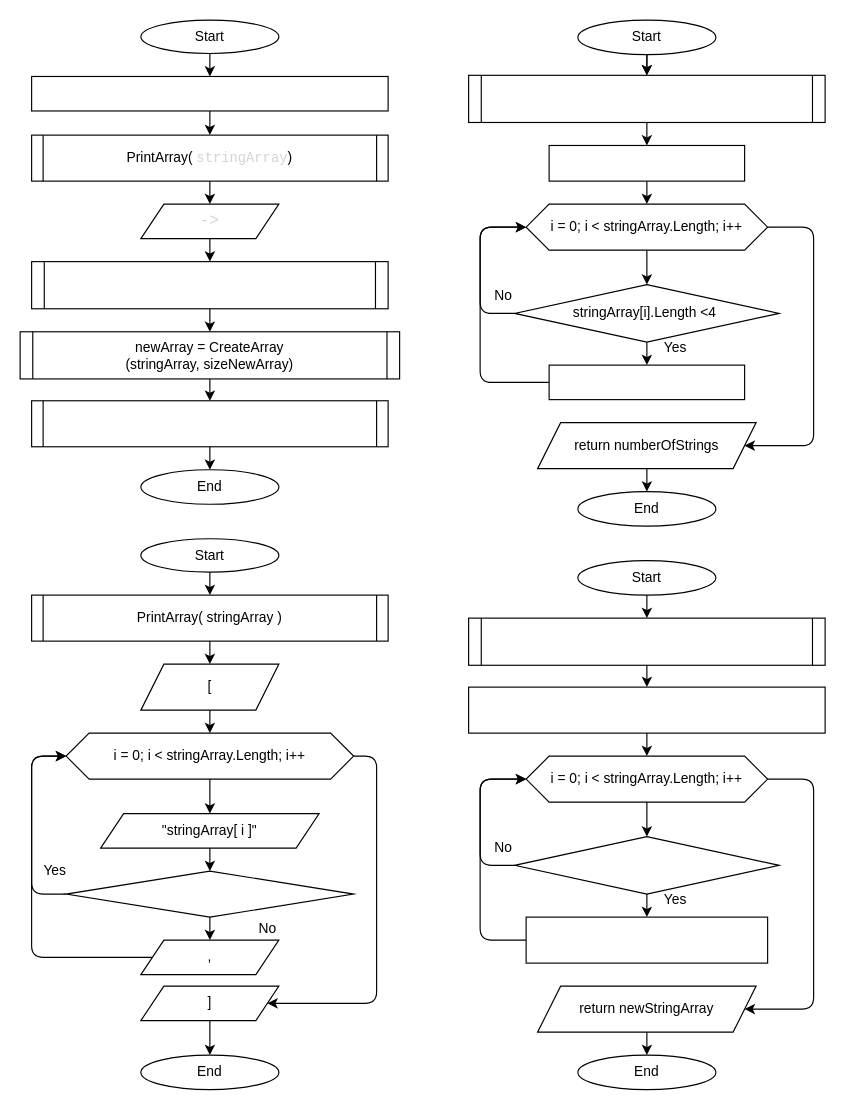
The diagram is 845 pixels wide and 1110 high, and some of its shapes have lost their labels. The box of each missing label's shape, as (x1, y1, x2, y2) in pixels:
CreateArray ( stringArray, sizeNewArray ): (467, 617, 825, 665)
i == stringArray.Length - 1: (65, 870, 354, 917)
newStringArray[ j ] = stringArray[ i ] j++: (525, 916, 768, 963)
numberOfStrings = 0;: (548, 144, 745, 181)
numberOfStrings++: (548, 364, 745, 400)
PrintArray( newStringArray ): (30, 400, 388, 447)
sizeNewArray = StringSearch(stringArray): (30, 260, 388, 309)
string[] newStringArray = new string [ sizeNewArray ] j = 0;: (467, 686, 825, 733)
stringArray = ["hello", "2", "world", ":-)"]: (30, 75, 388, 111)
stringArray[ i ].Length <4: (513, 835, 779, 894)
StringSearch( stringArray ): (467, 74, 825, 122)
